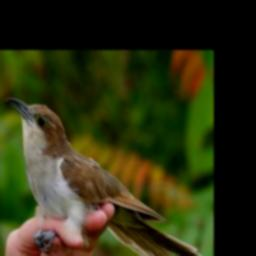Cuckoo: (6, 96, 209, 256)
